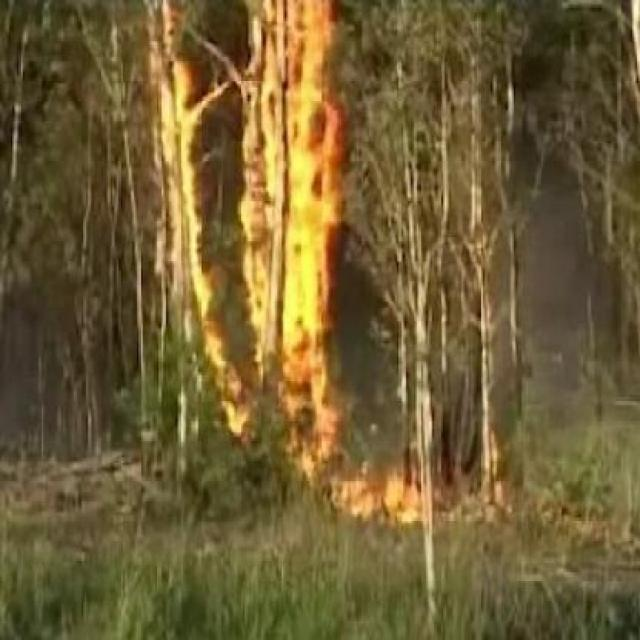Fire: (132, 0, 426, 545)
